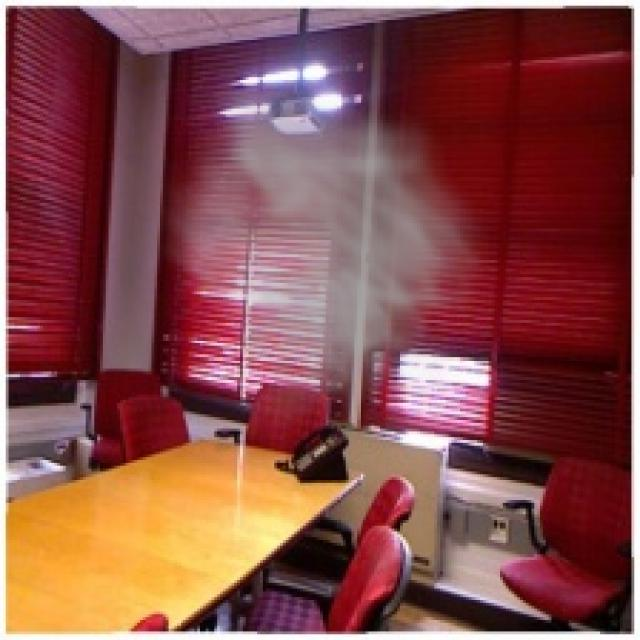smoke: (149, 92, 497, 434)
